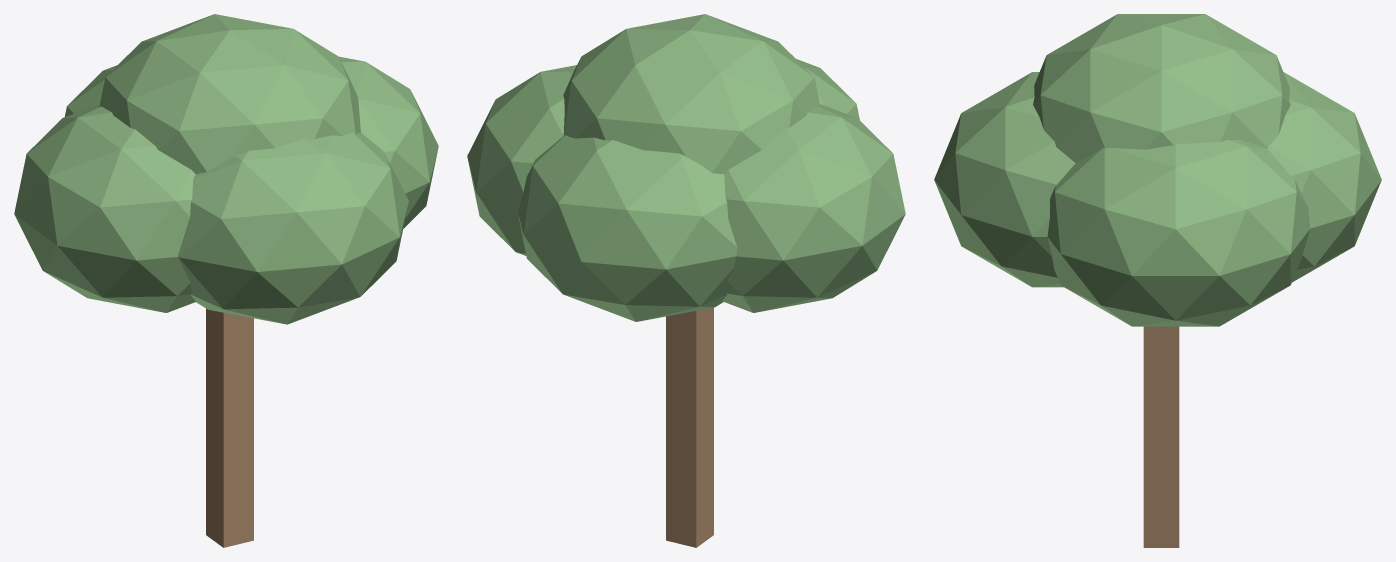
Rendered from shade-tree.glb.
3 renders of one model, left to right at view 1: azimuth 30°, elevation 25°; view 2: azimuth 150°, elevation 25°; view 3: azimuth 270°, elevation 25°, orthographic.
Visible parts, largest first — view 1: Icosphere.001, shade trunk; view 2: Icosphere.001, shade trunk; view 3: Icosphere.001, shade trunk.
Boxes of the visible parts, x1,y1,x2,y2 form: Icosphere.001: (14,14,438,324); shade trunk: (206,308,253,547); Icosphere.001: (467,14,905,321); shade trunk: (666,307,713,547); Icosphere.001: (934,14,1381,326); shade trunk: (1143,326,1179,547).
Size of the model in its own units: 3.2 by 4 by 3.15.
